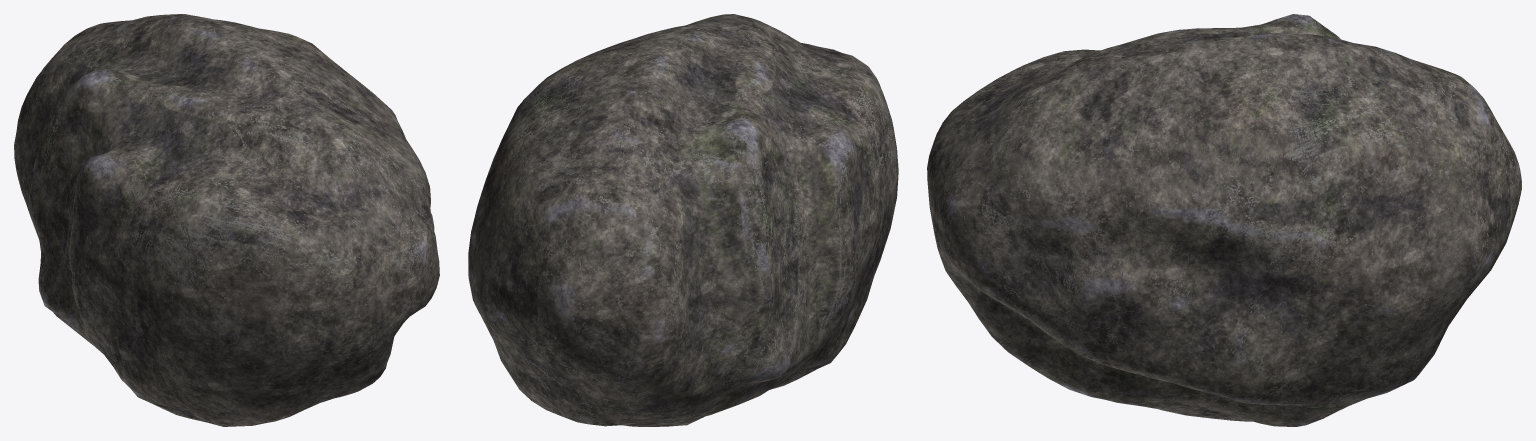
The model's file is SM_Rock01b.fbx.
3 views of the same model, side by side, from view 1: azimuth 30°, elevation 25°; view 2: azimuth 150°, elevation 25°; view 3: azimuth 270°, elevation 25° (orthographic). The views are drawn at different scales.
Parts seen in each view (by area): view 1: SM_Rock01b; view 2: SM_Rock01b; view 3: SM_Rock01b.
Boxes of the visible parts, left/top/right/bottom form: SM_Rock01b: left=14, top=14, right=439, bottom=426; SM_Rock01b: left=468, top=14, right=898, bottom=426; SM_Rock01b: left=927, top=14, right=1521, bottom=426.
Bounding box in the file's own units: 82.26 × 125 × 89.18.
1 material, 1 textured.
